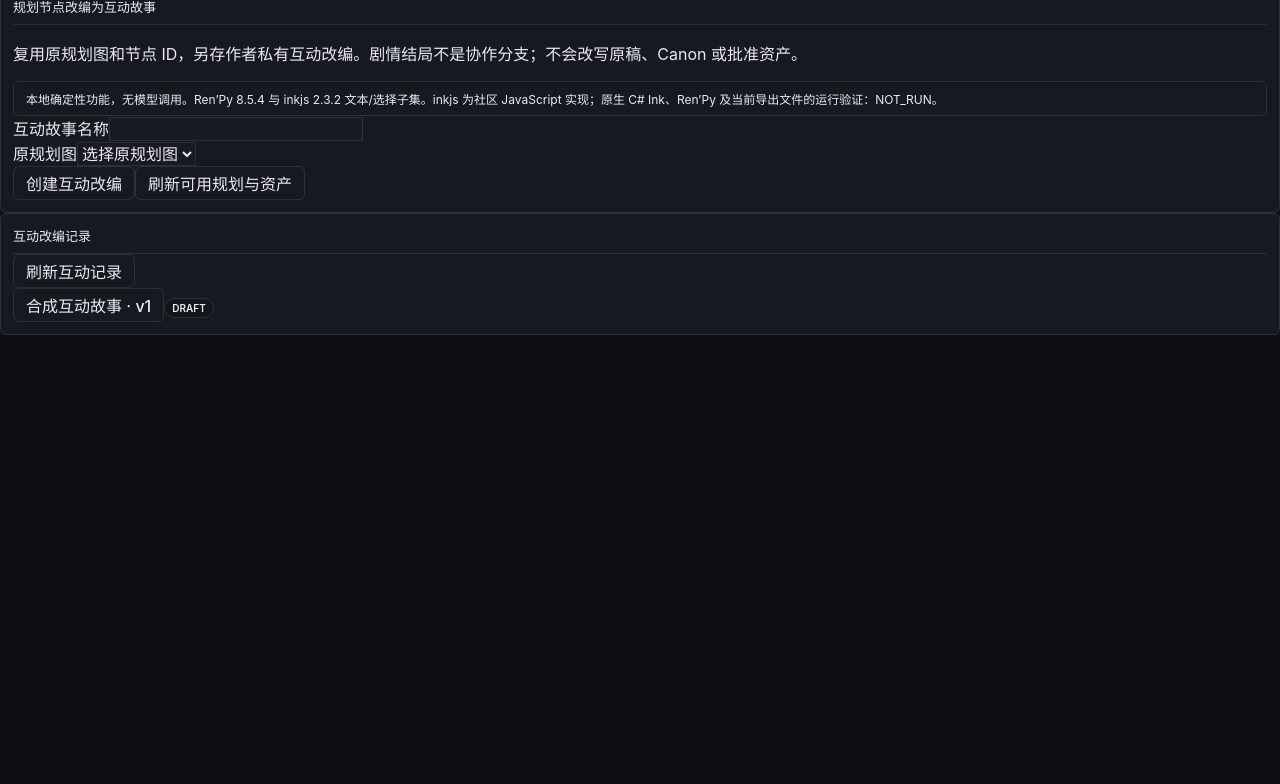
Scenario: rejects duplicate choice IDs instead of focusing an arbitrary control
The image size is (1280, 784).
Click the button "合成互动故事 · v1".
click(89, 305)  # box [13,288,164,322]
(page scrolled)
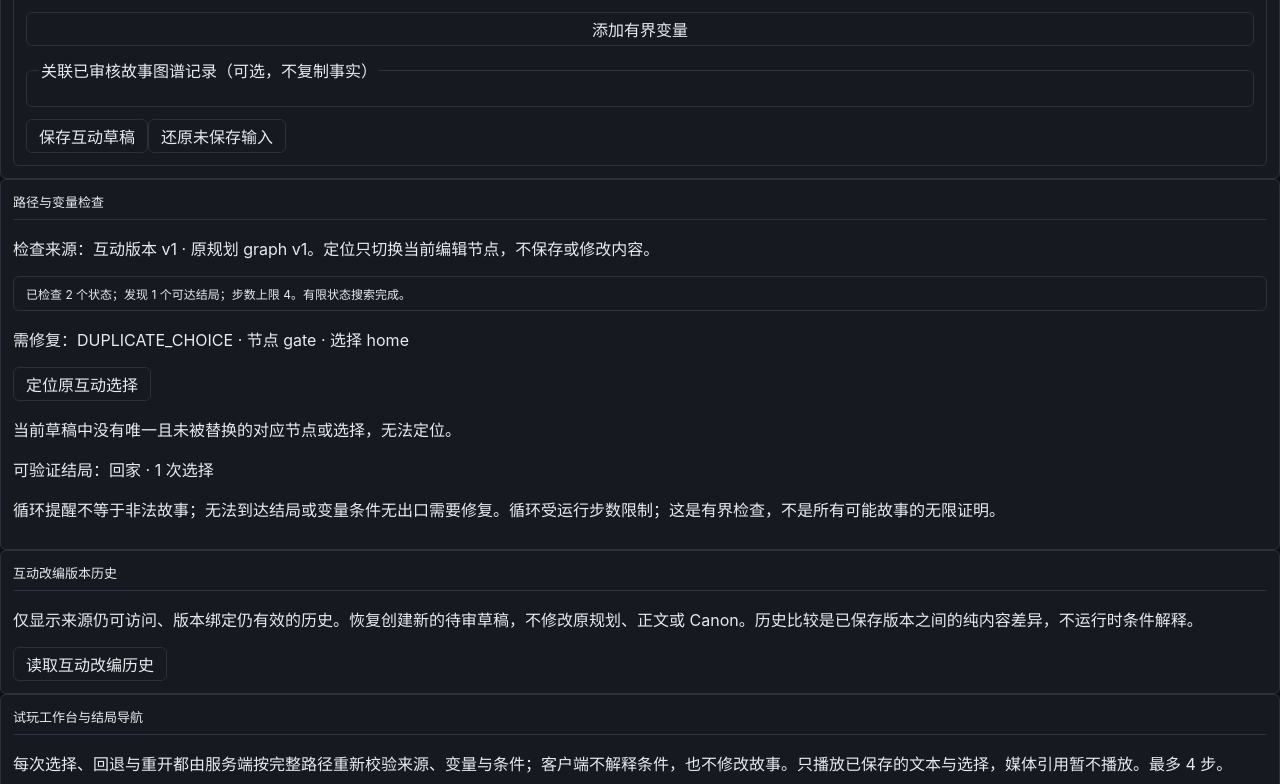
expect the button with aria-label "定位 DUPLICATE_CHOICE 节点 gate 选择 home" is disabled: met, box [13,367,151,401]
